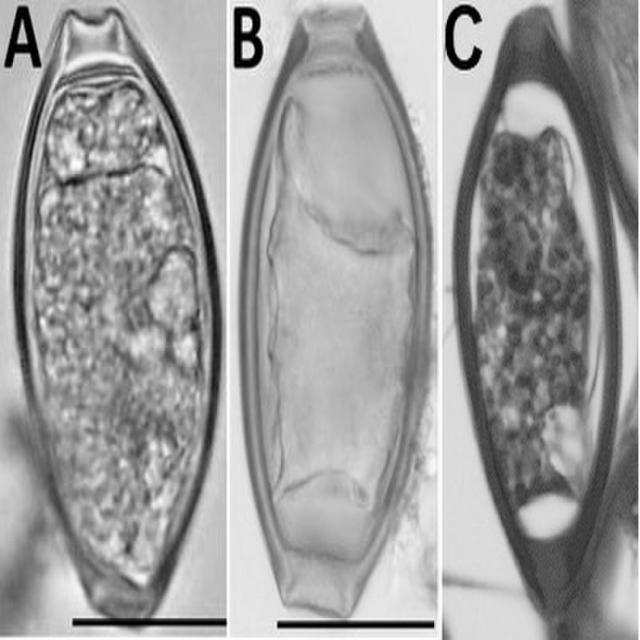Trichuris Trichiura: (9, 0, 227, 633), (233, 1, 435, 625), (447, 0, 625, 625)
